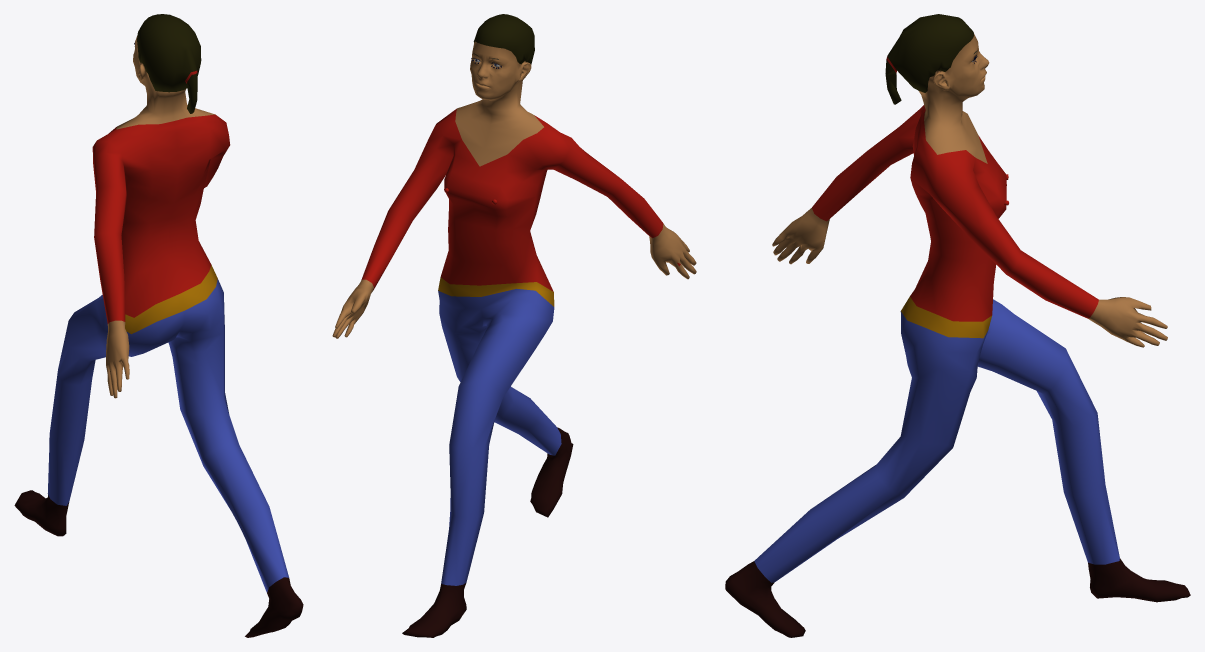
Rendered from person_000002.obj.
The picture shows the model from 3 angles, left to right: view 1: azimuth 30°, elevation 25°; view 2: azimuth 150°, elevation 25°; view 3: azimuth 270°, elevation 25°; orthographic projection. The views are drawn at different scales.
Visible parts, largest first — view 1: Cube; view 2: Cube; view 3: Cube.
Boxes of the visible parts, box(x1,y1,x2,y2) form: Cube: box(14, 14, 303, 637); Cube: box(332, 14, 696, 637); Cube: box(725, 14, 1190, 637).
Size of the model in its own units: 33.85 by 87.78 by 61.1.
